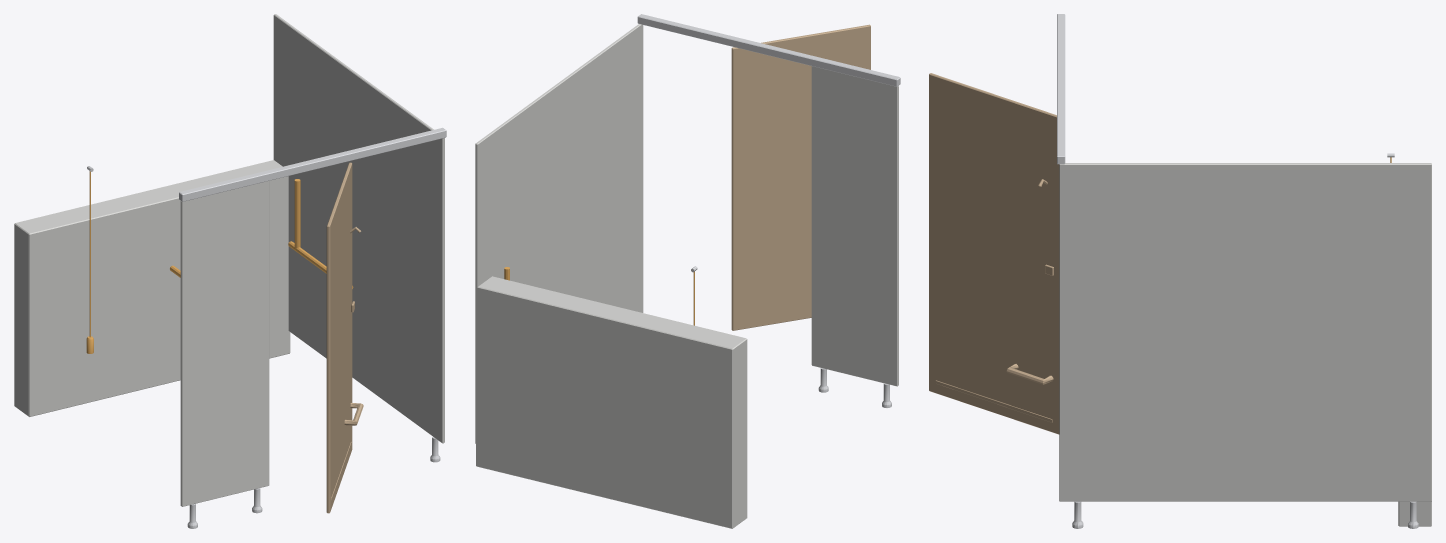
Rendered from office-lobby-and-facilities-wc-cubicle-accessible-ec78cf34.glb.
3 views of the same model, side by side, from view 1: azimuth 30°, elevation 25°; view 2: azimuth 150°, elevation 25°; view 3: azimuth 270°, elevation 25° (orthographic). The views are drawn at different scales.
Visible parts, largest first — view 1: wc-cubicle-accessible, cubicle-door; view 2: wc-cubicle-accessible, cubicle-door; view 3: wc-cubicle-accessible, cubicle-door.
Boxes of the visible parts, bbox=[...] form: wc-cubicle-accessible: bbox=[14, 14, 446, 528]; cubicle-door: bbox=[326, 162, 363, 513]; wc-cubicle-accessible: bbox=[475, 14, 900, 528]; cubicle-door: bbox=[731, 24, 870, 330]; wc-cubicle-accessible: bbox=[1057, 14, 1431, 528]; cubicle-door: bbox=[929, 73, 1059, 434].
Bounding box in the file's own units: 1.83 × 2.2 × 2.7.
